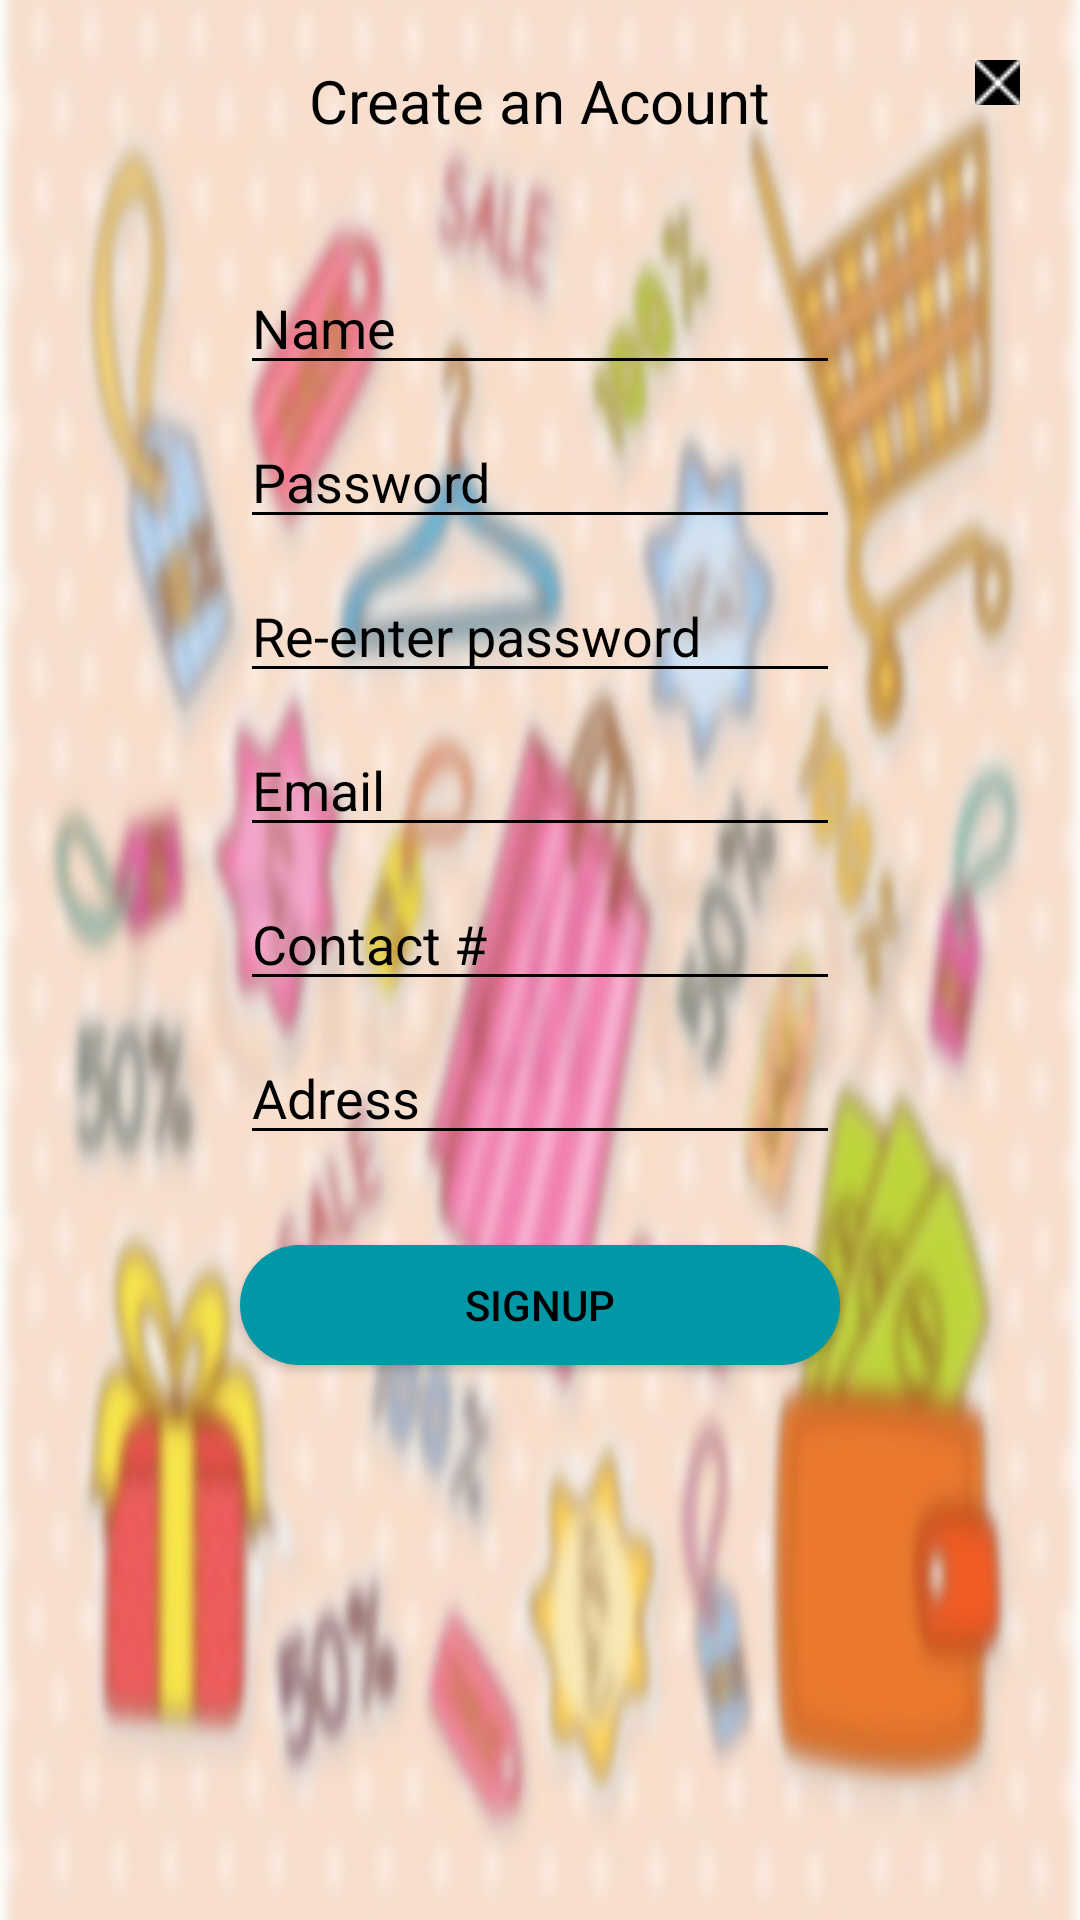

Icons on this 1080 x 1920 Android screen, each with its box as (x1, y1, x2, y2):
cross: (975, 60, 1020, 105)
